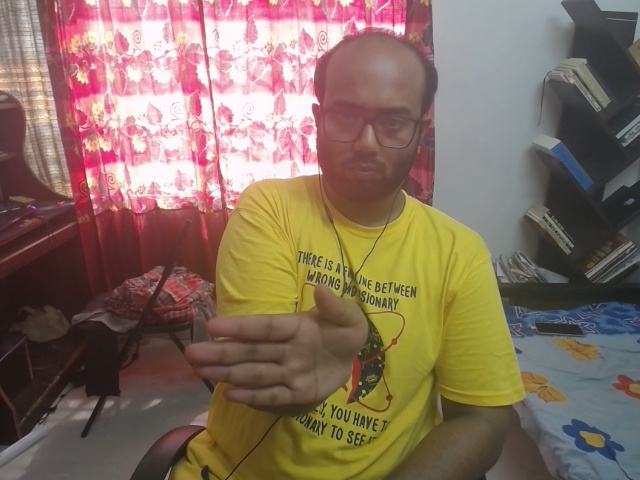south: (185, 280, 404, 417)
